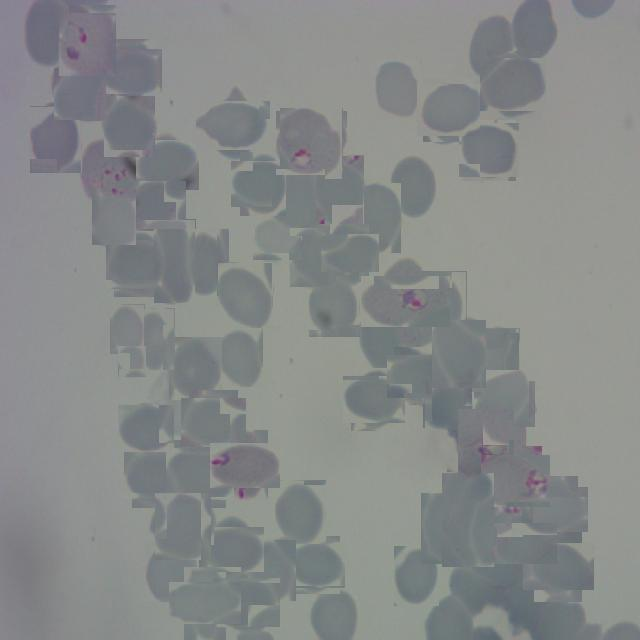leukocyte: (442, 472, 495, 567), (152, 495, 214, 557), (202, 95, 264, 156), (432, 320, 486, 388), (218, 262, 273, 328), (484, 54, 544, 114), (170, 444, 230, 504), (121, 175, 181, 235), (272, 169, 325, 236), (528, 537, 588, 596), (154, 219, 196, 303), (351, 183, 401, 253), (30, 106, 82, 173), (449, 563, 511, 618), (460, 122, 518, 180), (217, 574, 275, 632), (110, 235, 168, 293), (420, 81, 478, 139), (176, 574, 234, 632), (169, 337, 222, 400), (421, 493, 468, 564), (316, 155, 364, 224), (185, 394, 242, 452), (140, 136, 197, 194), (275, 480, 326, 544), (389, 154, 438, 220), (104, 96, 156, 158), (309, 274, 360, 337), (358, 304, 405, 372), (101, 44, 158, 100), (418, 271, 467, 336), (203, 522, 259, 578), (527, 481, 583, 537), (471, 328, 520, 392), (469, 12, 515, 80), (235, 156, 290, 212), (128, 448, 184, 503), (481, 371, 536, 427), (347, 372, 402, 427), (145, 542, 195, 602), (185, 228, 229, 296), (248, 540, 296, 601), (375, 58, 422, 119), (215, 328, 263, 387), (499, 517, 552, 570), (392, 546, 438, 606), (54, 68, 106, 121), (290, 228, 336, 287), (291, 539, 343, 591), (120, 404, 172, 456), (391, 351, 442, 402), (91, 188, 136, 245), (134, 308, 175, 370), (424, 380, 473, 430), (325, 228, 374, 278), (254, 217, 300, 262), (110, 304, 145, 354), (118, 345, 147, 377)
red blood cell: (278, 110, 346, 178), (216, 436, 274, 494)
schizont: (370, 267, 440, 337), (452, 414, 520, 482), (59, 4, 117, 76), (486, 451, 546, 512)
